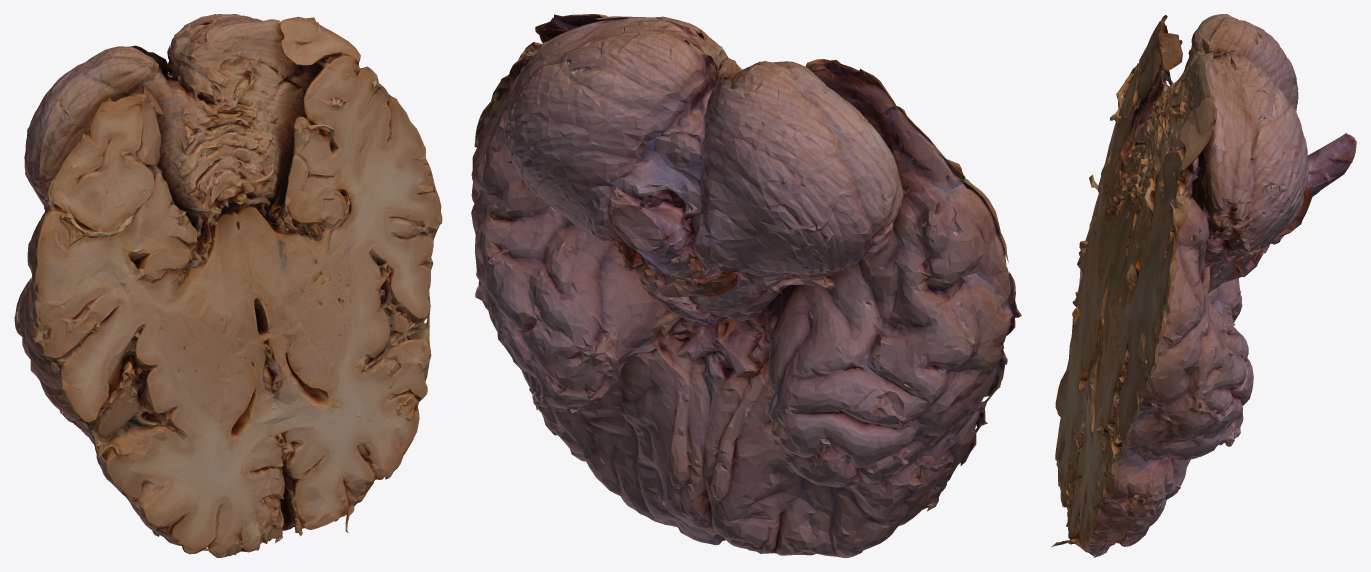
3 views of the same model, side by side, from view 1: azimuth 30°, elevation 25°; view 2: azimuth 150°, elevation 25°; view 3: azimuth 270°, elevation 25° (orthographic). The views are drawn at different scales.
Bounding box in the file's own units: 4.75 × 4.95 × 2.91.
1 material, 1 textured.
